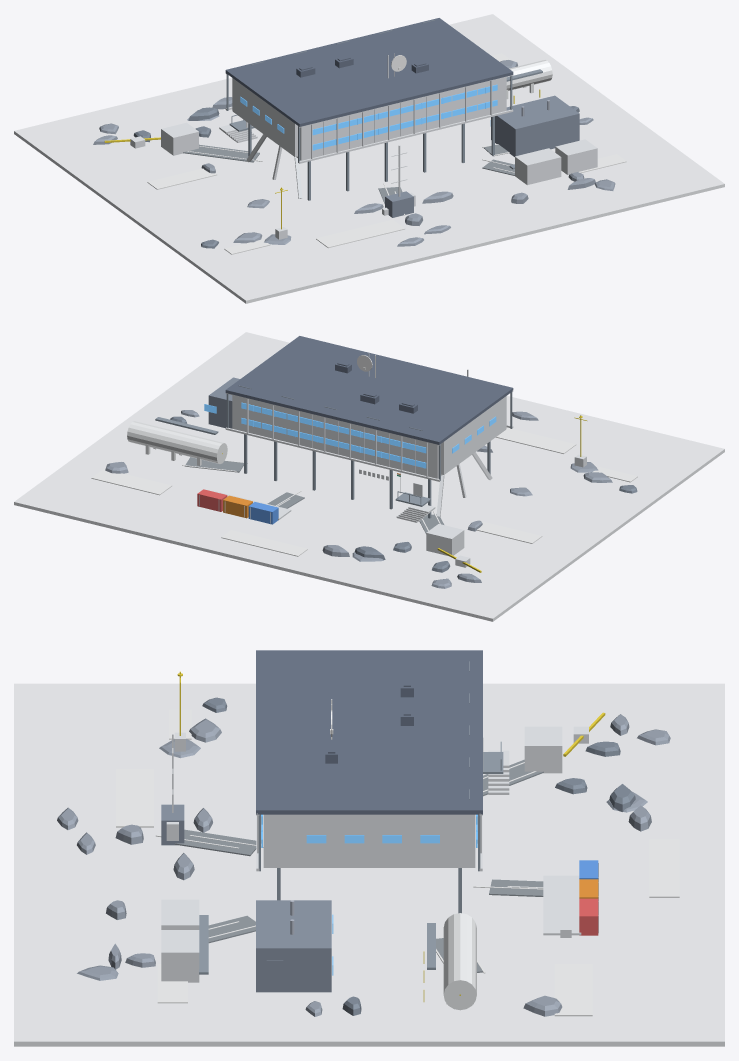
Rendered from bharati-station.glb.
The picture shows the model from 3 angles, top to bottom: view 1: azimuth 30°, elevation 25°; view 2: azimuth 150°, elevation 25°; view 3: azimuth 270°, elevation 25°; orthographic projection. The views are drawn at different scales.
Parts seen in each view (by area): view 1: Rocky site base, Bharati_roof_deck, Bharati_modular_main_shell, Generator_building, Bharati_front_cap, Summer_support_module_1, Window_band_north_lower, Window_band_north_upper, Summer_support_module_2, Snow_patch_1, Seawater_pump_house, Envelope_long_beam.002 (+4 smaller); view 2: Rocky site base, Bharati_roof_deck, Bharati_modular_main_shell, Bharati_front_cap, Window_band_south_lower, Window_band_south_upper, Fuel_tank_1, Seawater_pump_house, Snow_patch_1, Snow_patch_3, Generator_building, Snow_patch_5 (+8 smaller); view 3: Rocky site base, Bharati_roof_deck, Bharati_rear_cap, Generator_building, Snow_patch_1, Cargo_handling_pad, Summer_support_module_2, Snow_patch_3, Seawater_pump_house, Snow_patch_5, Fuel_tank_3, Bharati_modular_main_shell (+9 smaller).
Boxes of the visible parts, x1,y1,x2,y2 form: Rocky site base: [14, 14, 724, 303]; Bharati_roof_deck: [225, 18, 513, 126]; Bharati_modular_main_shell: [232, 77, 506, 160]; Generator_building: [491, 95, 579, 156]; Bharati_front_cap: [232, 78, 297, 156]; Summer_support_module_1: [515, 148, 561, 184]; Window_band_north_lower: [312, 100, 497, 150]; Window_band_north_upper: [312, 84, 497, 135]; Summer_support_module_2: [555, 139, 597, 174]; Snow_patch_1: [316, 219, 404, 247]; Seawater_pump_house: [161, 122, 198, 155]; Envelope_long_beam.002: [298, 109, 513, 163]; Rocky site base: [14, 332, 724, 621]; Bharati_roof_deck: [225, 336, 513, 444]; Bharati_modular_main_shell: [232, 395, 506, 478]; Bharati_front_cap: [441, 396, 506, 474]; Window_band_south_lower: [241, 418, 426, 468]; Window_band_south_upper: [241, 402, 426, 453]; Fuel_tank_1: [178, 433, 227, 463]; Seawater_pump_house: [426, 524, 464, 555]; Snow_patch_1: [496, 427, 576, 453]; Snow_patch_3: [91, 469, 171, 495]; Generator_building: [208, 377, 239, 428]; Snow_patch_5: [221, 530, 307, 556]; Rocky site base: [14, 683, 724, 1046]; Bharati_roof_deck: [256, 650, 482, 814]; Bharati_rear_cap: [274, 814, 464, 866]; Generator_building: [256, 900, 331, 992]; Snow_patch_1: [116, 769, 153, 827]; Cargo_handling_pad: [543, 875, 581, 935]; Summer_support_module_2: [161, 930, 199, 982]; Snow_patch_3: [554, 964, 592, 1016]; Seawater_pump_house: [524, 726, 562, 773]; Snow_patch_5: [649, 839, 679, 897]; Fuel_tank_3: [443, 952, 476, 1010]; Bharati_modular_main_shell: [263, 814, 475, 867].
Bounding box in the file's own units: 112 × 25.2 × 94.
